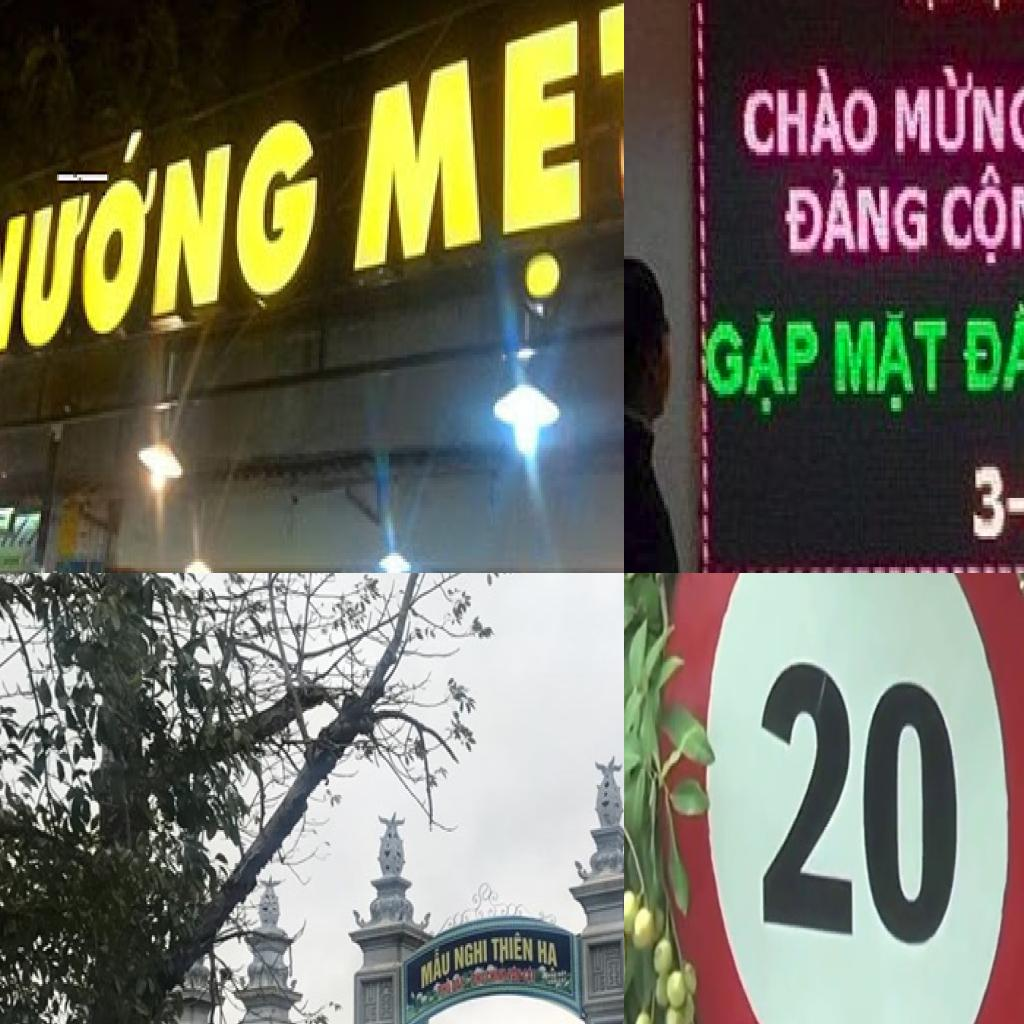text: (0, 72, 327, 366), (339, 0, 624, 321), (758, 656, 962, 955), (781, 166, 931, 263), (706, 304, 823, 426), (740, 69, 883, 162), (831, 308, 951, 418), (893, 65, 1024, 158), (939, 162, 1024, 269), (961, 300, 1024, 401), (420, 941, 453, 994), (490, 930, 535, 968), (452, 936, 490, 976), (961, 0, 1024, 16), (901, 0, 959, 17), (535, 938, 560, 976)
